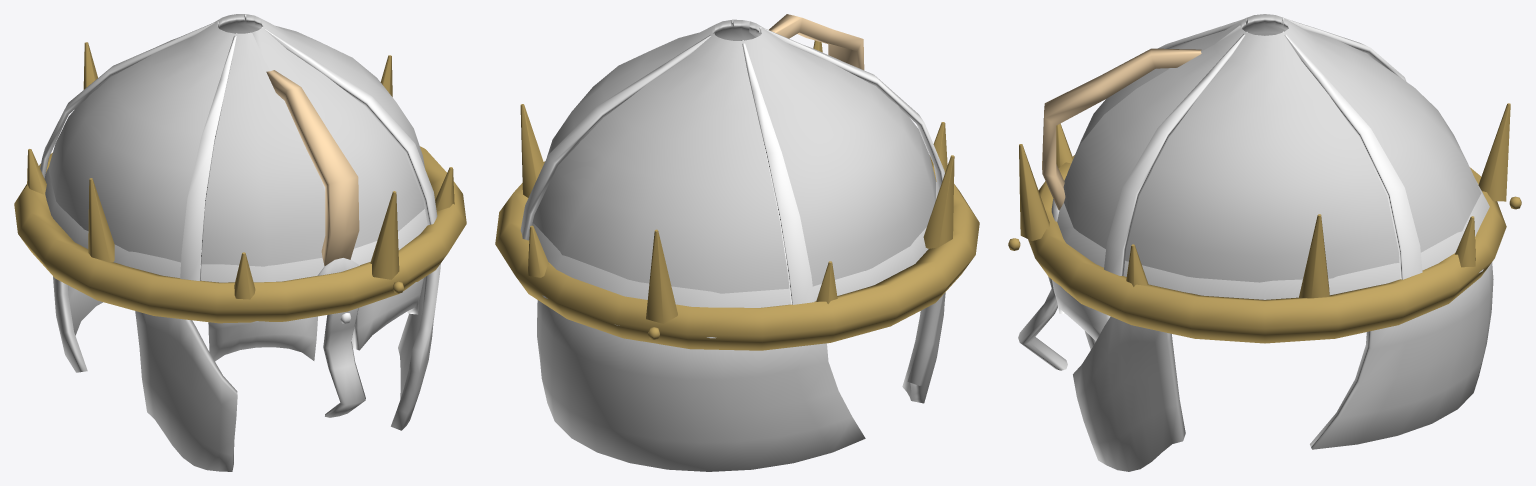
Rendered from helm-berserker-crowned.glb.
3 views of the same model, side by side, from view 1: azimuth 30°, elevation 25°; view 2: azimuth 150°, elevation 25°; view 3: azimuth 270°, elevation 25° (orthographic). The views are drawn at different scales.
Visible parts, largest first — view 1: helm-berserker-crowned; view 2: helm-berserker-crowned; view 3: helm-berserker-crowned.
Boxes of the visible parts, bbox=[...] form: helm-berserker-crowned: bbox=[14, 14, 466, 471]; helm-berserker-crowned: bbox=[495, 14, 979, 471]; helm-berserker-crowned: bbox=[1008, 14, 1521, 471].
Size of the model in its own units: 0.2974 by 0.2671 by 0.3156.
